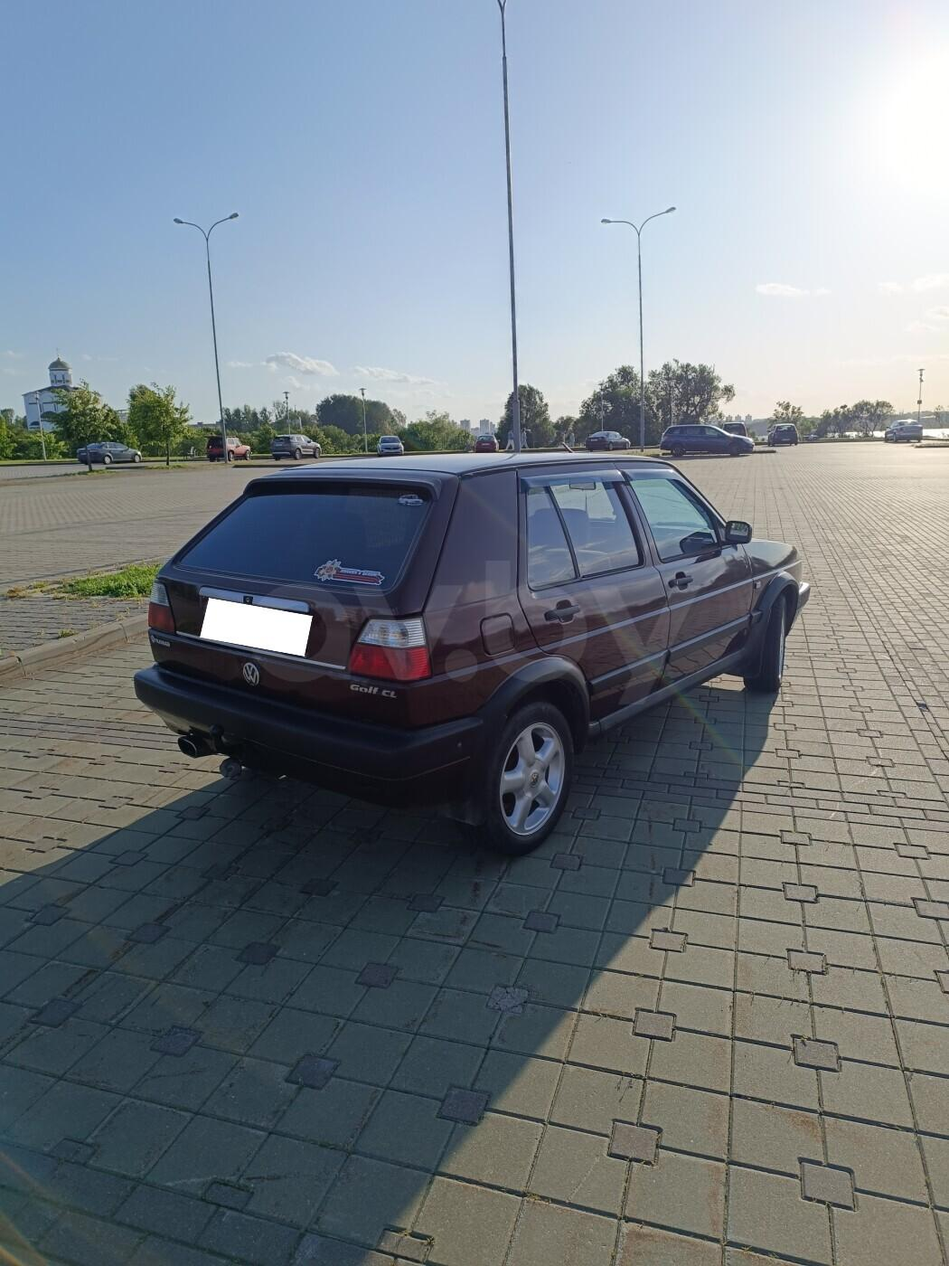Golf_1983-1992: (127, 444, 831, 850)
